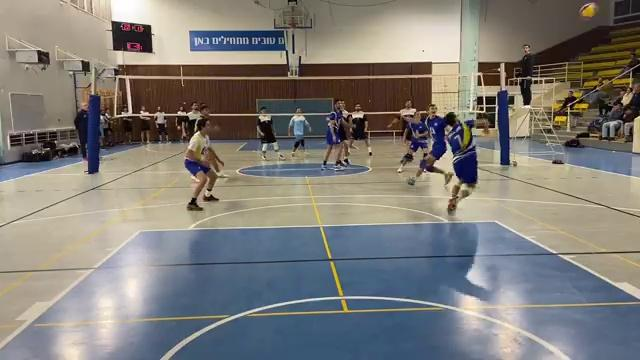ball: (577, 2, 601, 22)
